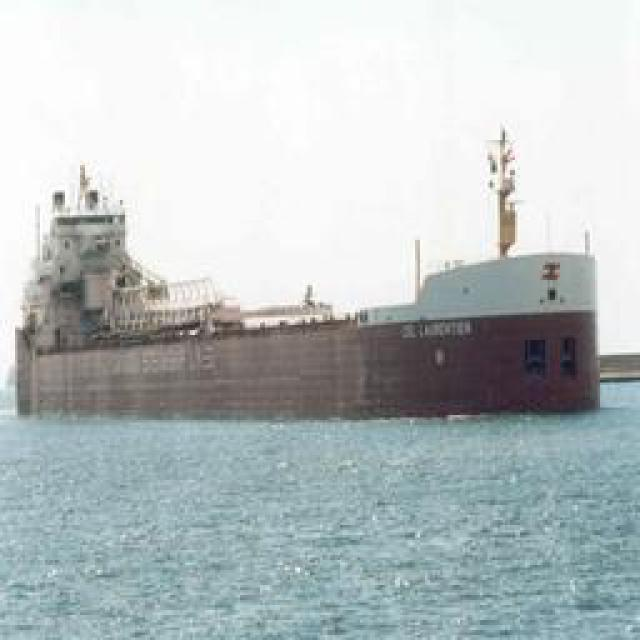Ship: (12, 173, 617, 422)
